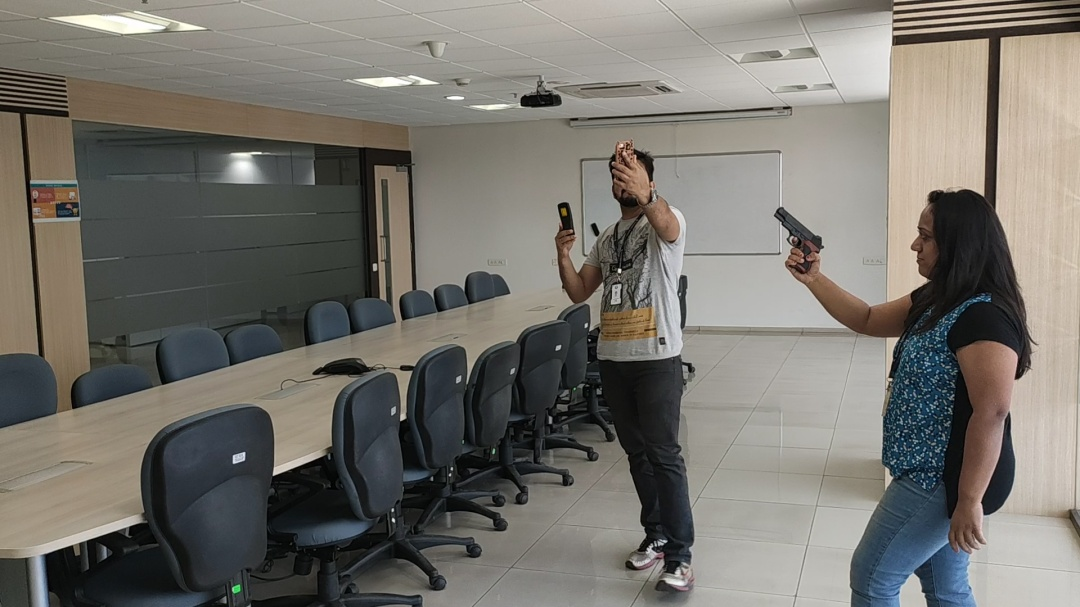gun: (774, 204, 825, 275)
